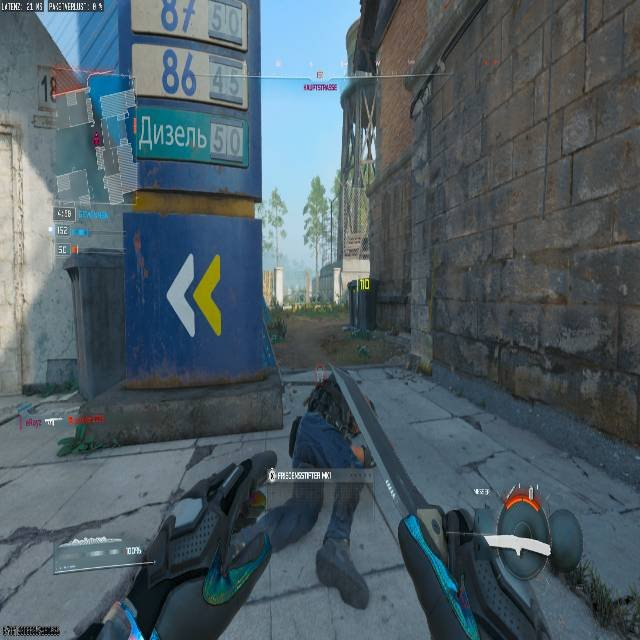player: (356, 344, 369, 360)
